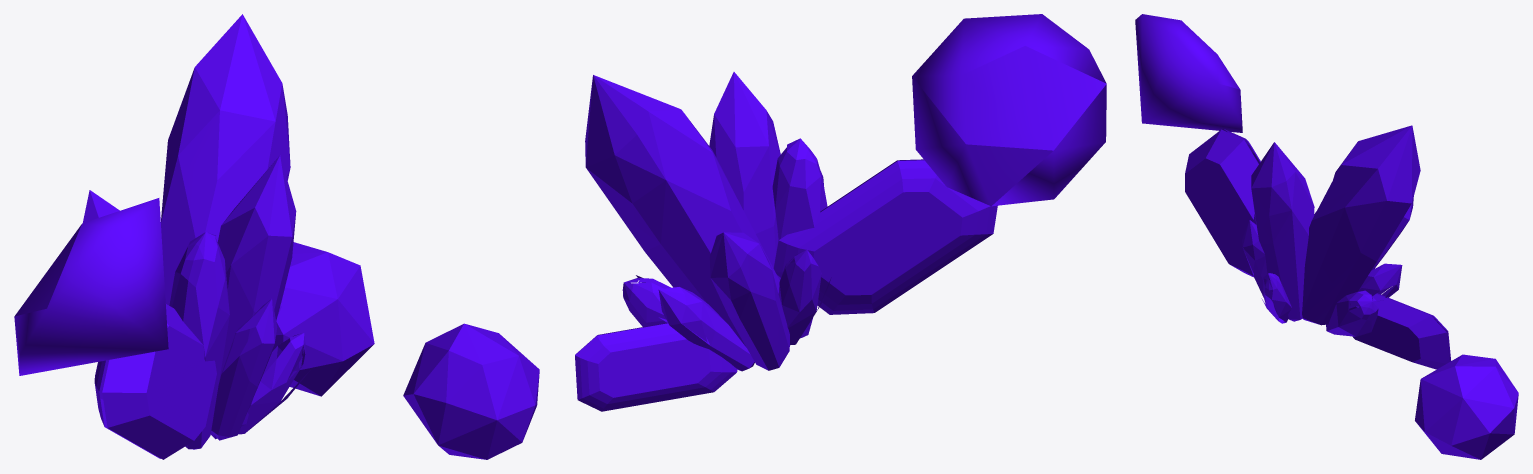
File: add-visual-diamond-6.glb
3 views of the same model, side by side, from view 1: azimuth 30°, elevation 25°; view 2: azimuth 150°, elevation 25°; view 3: azimuth 270°, elevation 25° (orthographic). The views are drawn at different scales.
Parts seen in each view (by area): view 1: 球体.054; view 2: 球体.054; view 3: 球体.054.
Boxes of the visible parts, left/top/right/bottom form: 球体.054: left=14, top=14, right=374, bottom=459; 球体.054: left=403, top=14, right=1106, bottom=459; 球体.054: left=1135, top=14, right=1518, bottom=459.
Bounding box in the file's own units: 4.21 × 3.06 × 3.56.
